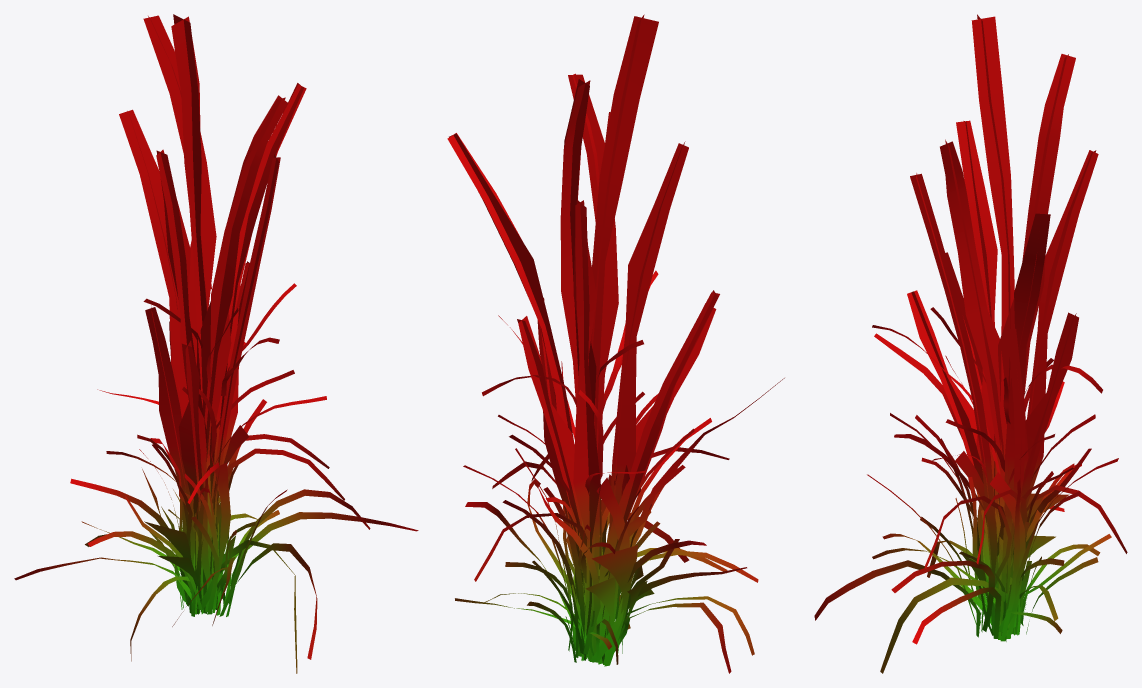
The model's file is Var4_LOD1.fbx.
3 renders of one model, left to right at view 1: azimuth 30°, elevation 25°; view 2: azimuth 150°, elevation 25°; view 3: azimuth 270°, elevation 25°, orthographic. The views are drawn at different scales.
Parts seen in each view (by area): view 1: _a418_Var4_LOD1; view 2: _a418_Var4_LOD1; view 3: _a418_Var4_LOD1.
Part boxes in pixels (x1=…): _a418_Var4_LOD1: x1=14, y1=14, x2=418, y2=673; _a418_Var4_LOD1: x1=447, y1=14, x2=784, y2=673; _a418_Var4_LOD1: x1=814, y1=14, x2=1127, y2=673.
Size of the model in its own units: 48.52 by 89.72 by 40.75.
